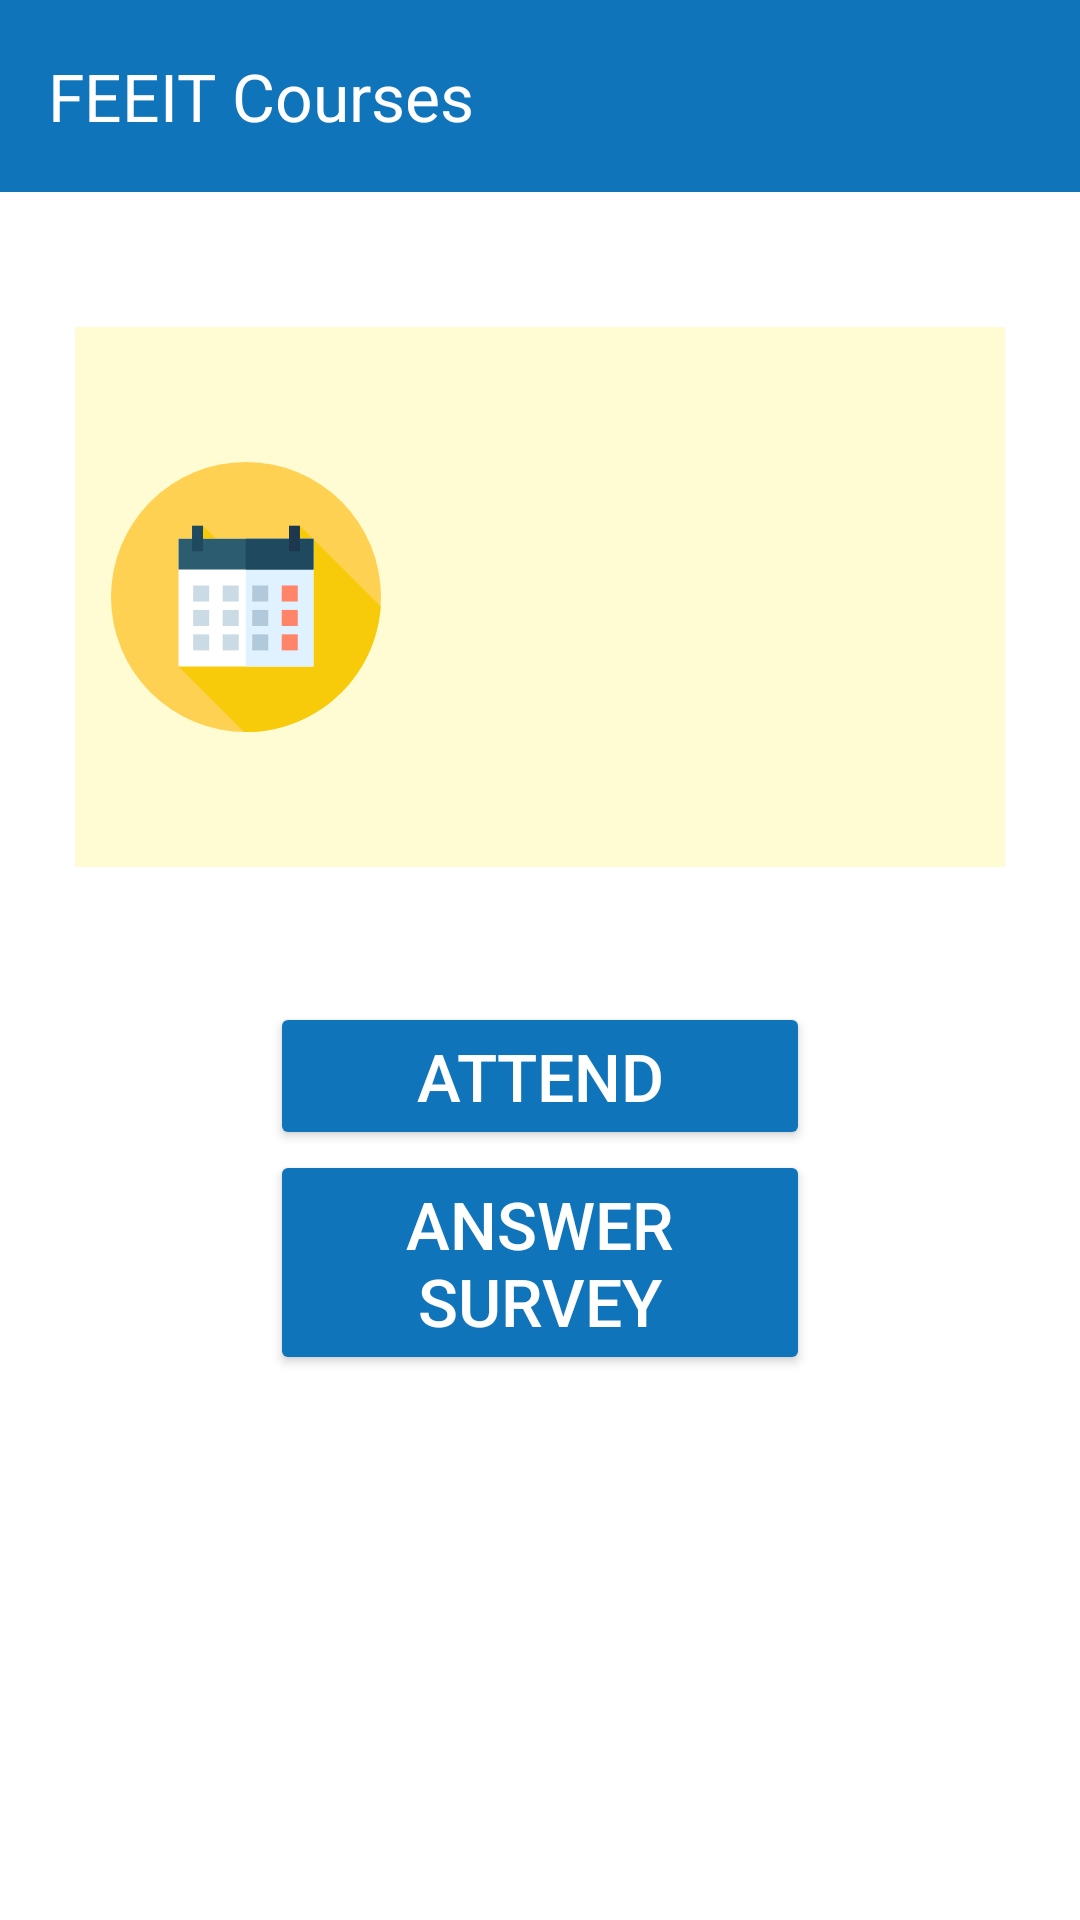

Where icons sit on this 1080px×1920px app screen, as (x1, y1, x2, y2):
Schedule Icon: (111, 462, 381, 732)
